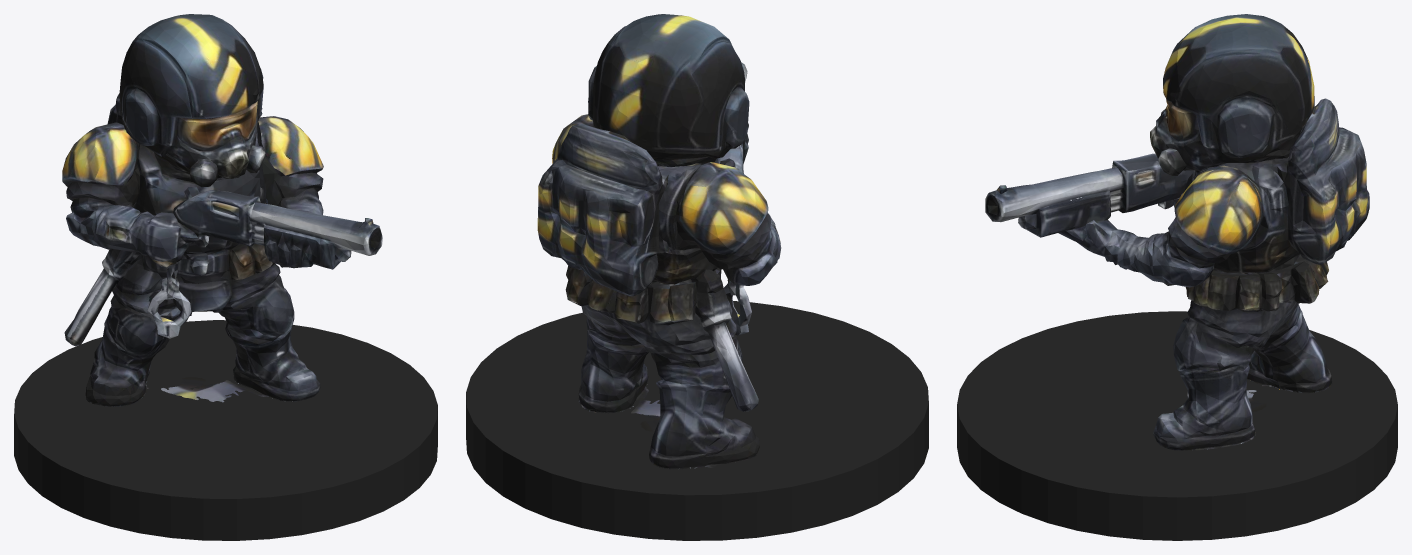
File: ex-vigilant.glb
3 renders of one model, left to right at view 1: azimuth 30°, elevation 25°; view 2: azimuth 150°, elevation 25°; view 3: azimuth 270°, elevation 25°, orthographic. The views are drawn at different scales.
Parts seen in each view (by area): view 1: figure, base; view 2: figure, base; view 3: figure, base.
Boxes of the visible parts, x1,y1,x2,y2 form: figure: (62,14,382,406); base: (14,320,437,540); figure: (537,14,781,469); base: (466,301,928,540); figure: (985,14,1369,450); base: (957,311,1397,540).
Bounding box in the file's own units: 1.1 × 1.17 × 1.1.
2 materials, 1 textured.
